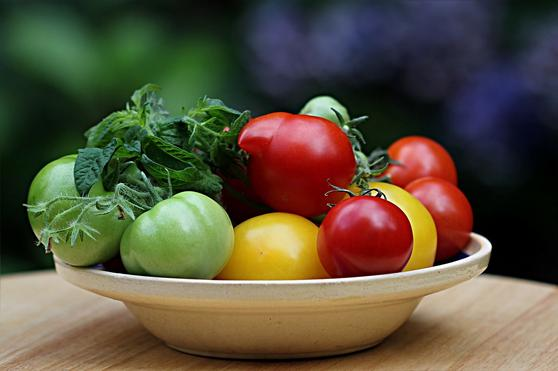tomato: (250, 107, 357, 206), (320, 188, 412, 276)
